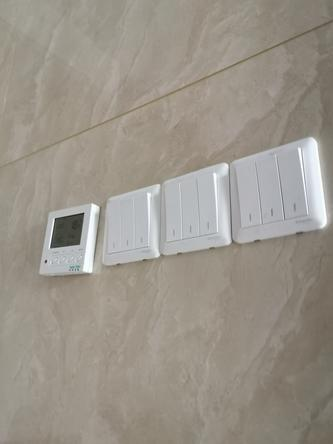switch: (277, 139, 313, 221), (231, 155, 266, 228), (253, 152, 288, 223), (195, 169, 222, 237), (163, 179, 188, 242), (179, 176, 203, 240), (132, 190, 156, 252), (102, 198, 124, 258), (120, 193, 138, 252)
